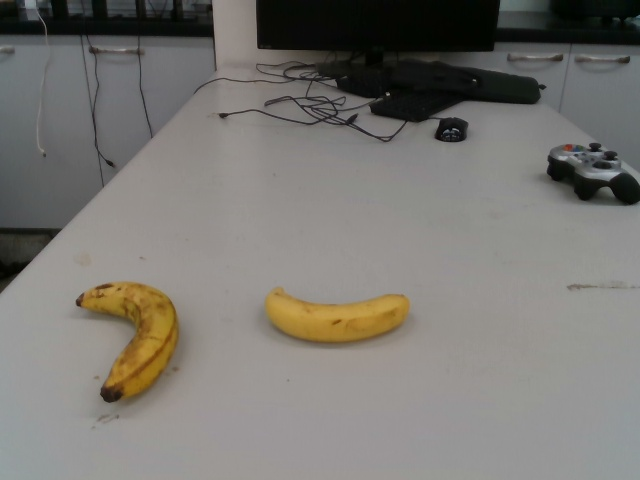banana: (75, 281, 180, 403), (266, 285, 412, 345)
